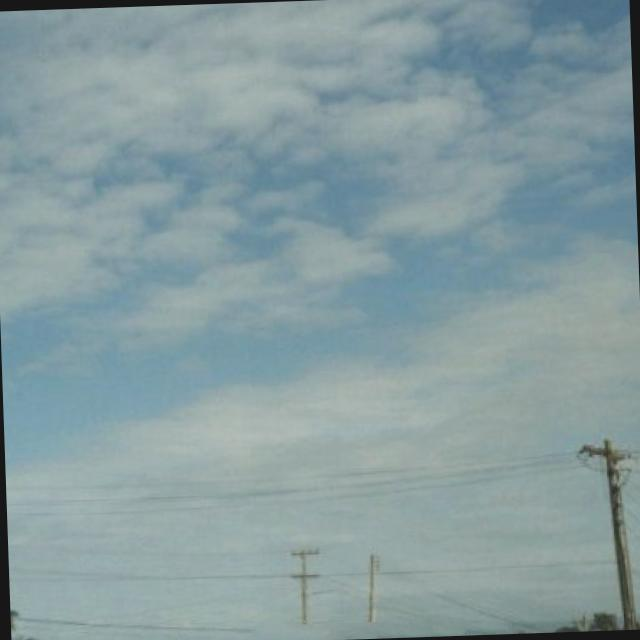Sc: (1, 1, 640, 396)
